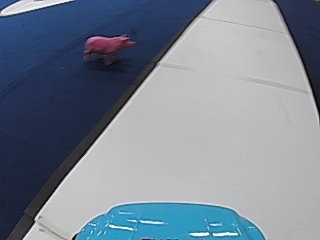pig: (82, 29, 134, 67)
